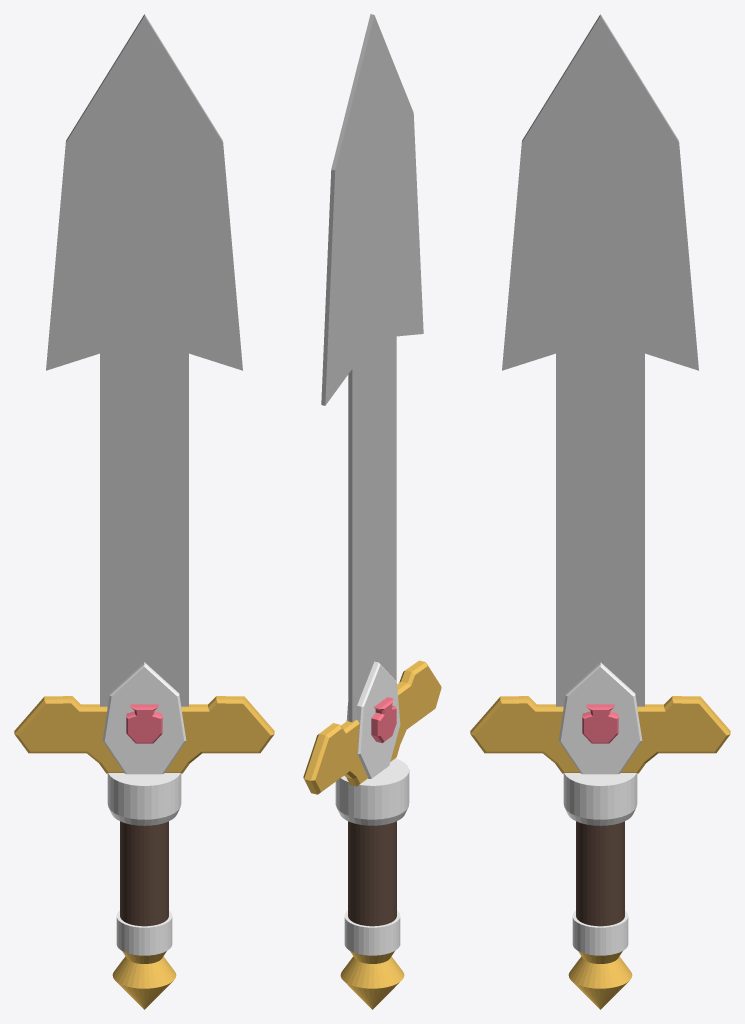
The model's file is IronSword.fbx.
3 views of the same model, side by side, from view 1: azimuth 90°, elevation 25°; view 2: azimuth 150°, elevation 25°; view 3: azimuth 270°, elevation 25° (orthographic).
Visible parts, largest first — view 1: Sword12; view 2: Sword12; view 3: Sword12.
Boxes of the visible parts, box(x1,y1,x2,y2) form: Sword12: box(14, 14, 274, 1009); Sword12: box(303, 14, 441, 1009); Sword12: box(470, 14, 730, 1009).
Bounding box in the file's own units: 31.93 × 477 × 113.
